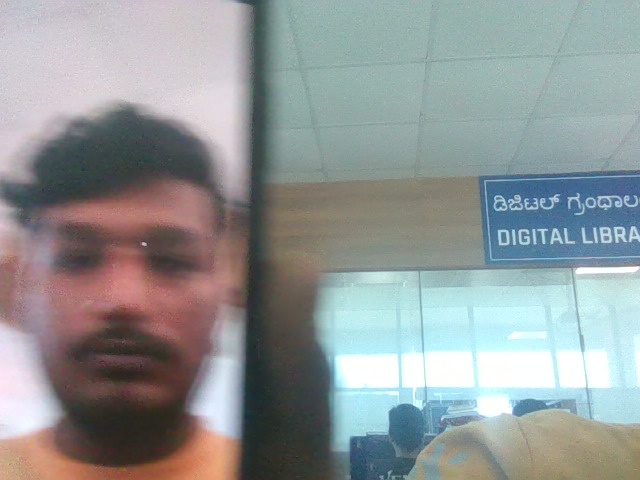fake: (0, 81, 259, 448)
